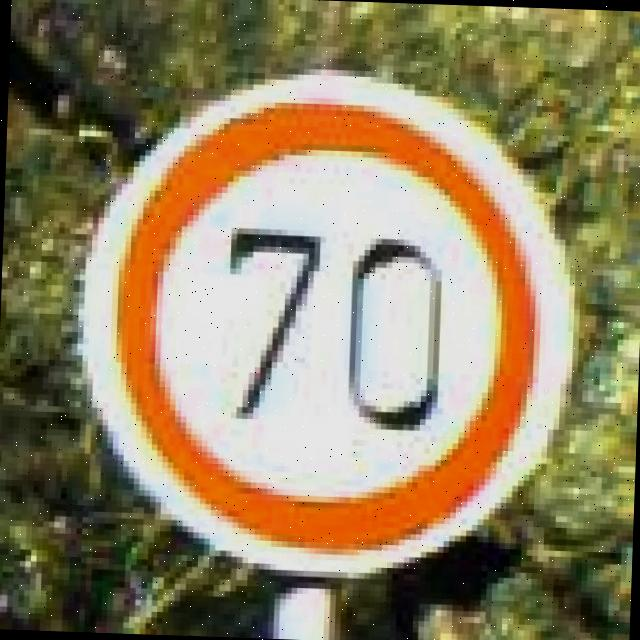Ograniczenie predkosci do 70: (46, 48, 594, 598)
